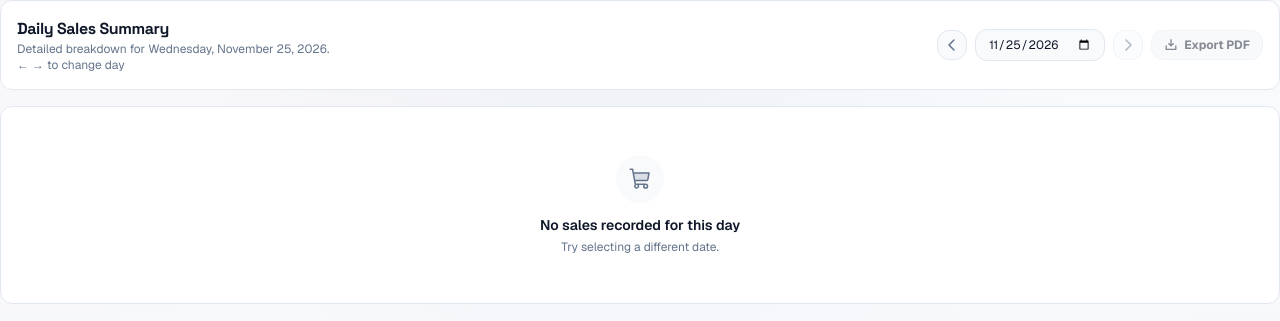
Test: analytics local-date stepping (run with TZ=Asia/Manila) › Next from an earlier day advances to the next calendar day
The width and height of the screenshot is (1280, 321).
Type "2026-11-20" into the date field.
click(1040, 45); type("2026-11-20")  # box [975,29,1105,61]
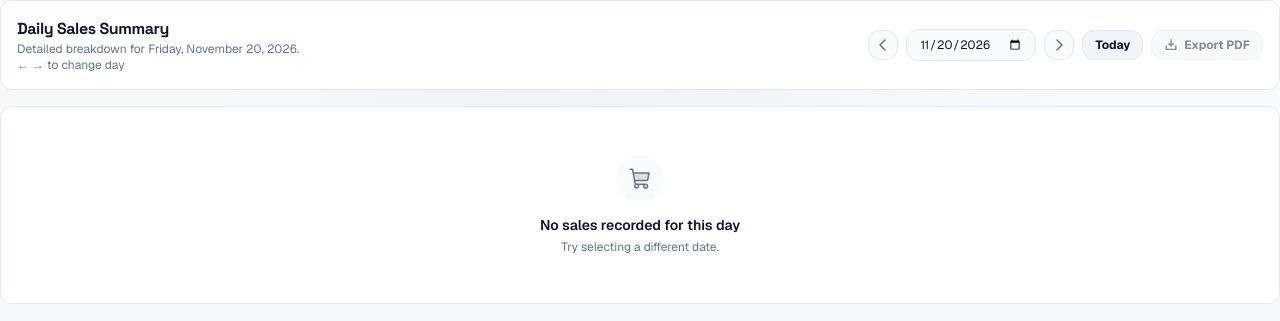
Click the button titled "Next Day".
click(1060, 45)  # box [1044,30,1074,60]
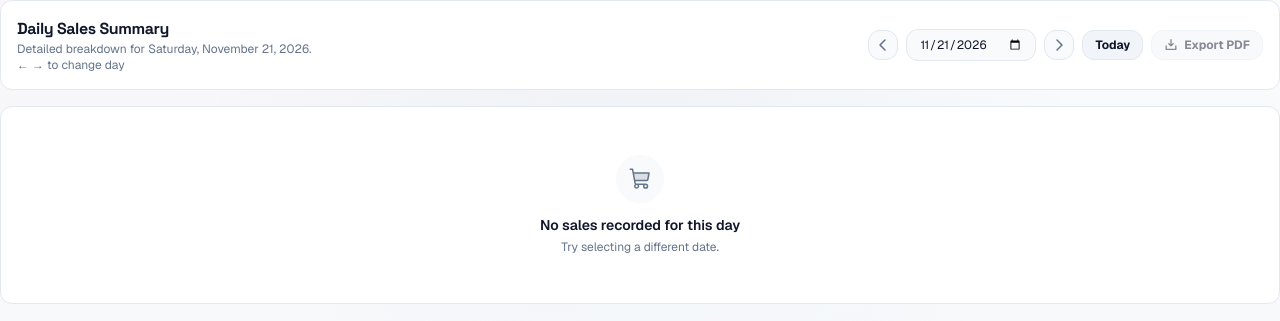
expect the date field holds "2026-11-21": met, box [906,29,1036,61]
